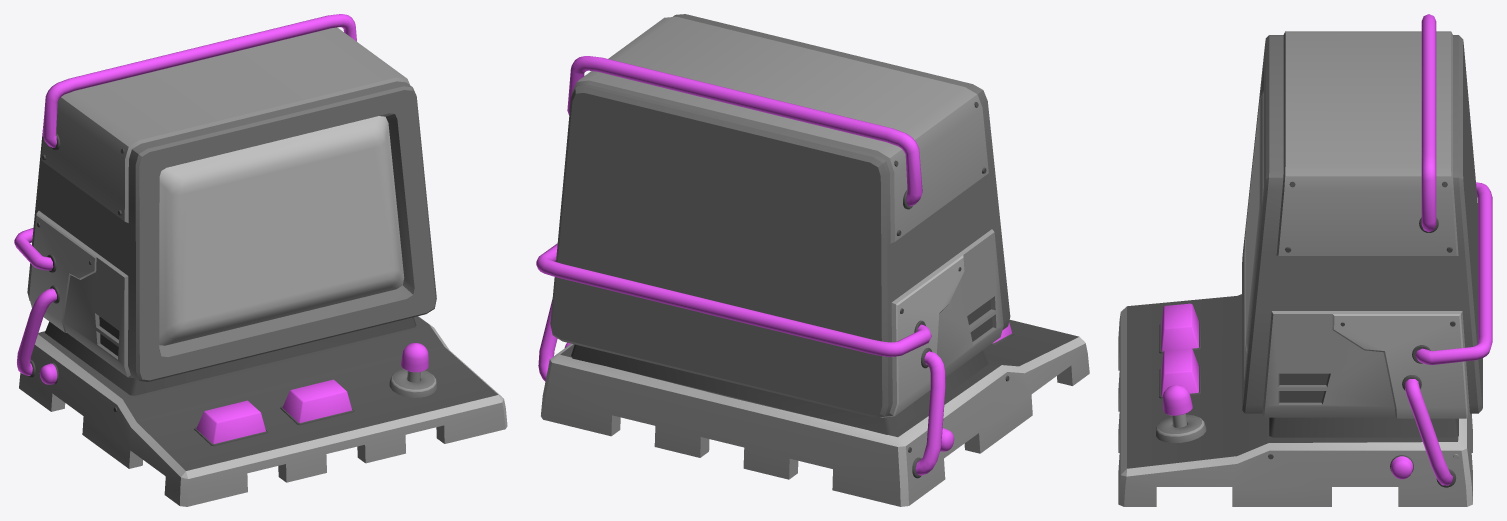
Rendered from GEISTBook.fbx.
The picture shows the model from 3 angles, left to right: view 1: azimuth 30°, elevation 25°; view 2: azimuth 150°, elevation 25°; view 3: azimuth 270°, elevation 25°; orthographic projection. The views are drawn at different scales.
Parts seen in each view (by area): view 1: GEISTBook_LOD0; view 2: GEISTBook_LOD0; view 3: GEISTBook_LOD0.
Boxes of the visible parts, bbox=[...] form: GEISTBook_LOD0: bbox=[14, 14, 507, 506]; GEISTBook_LOD0: bbox=[536, 14, 1089, 506]; GEISTBook_LOD0: bbox=[1118, 14, 1492, 506].
Size of what is drawn, in the model's own units: 169 by 143 by 144.
